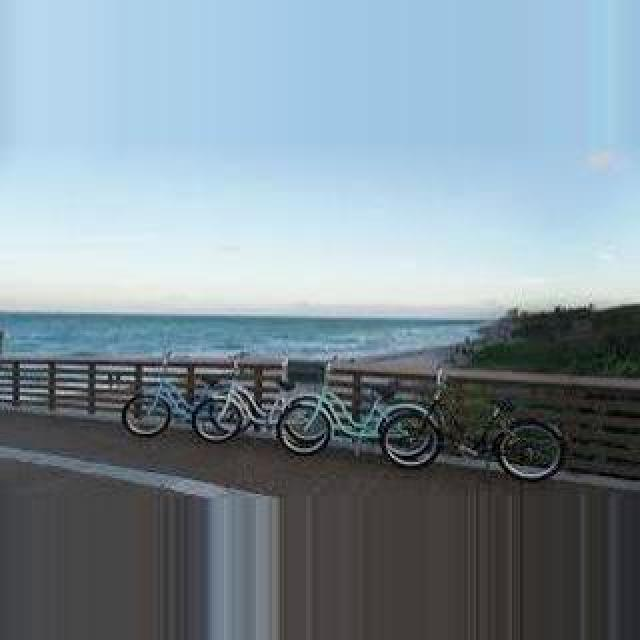Person: (380, 374, 566, 482), (280, 354, 446, 466), (120, 354, 240, 442)
